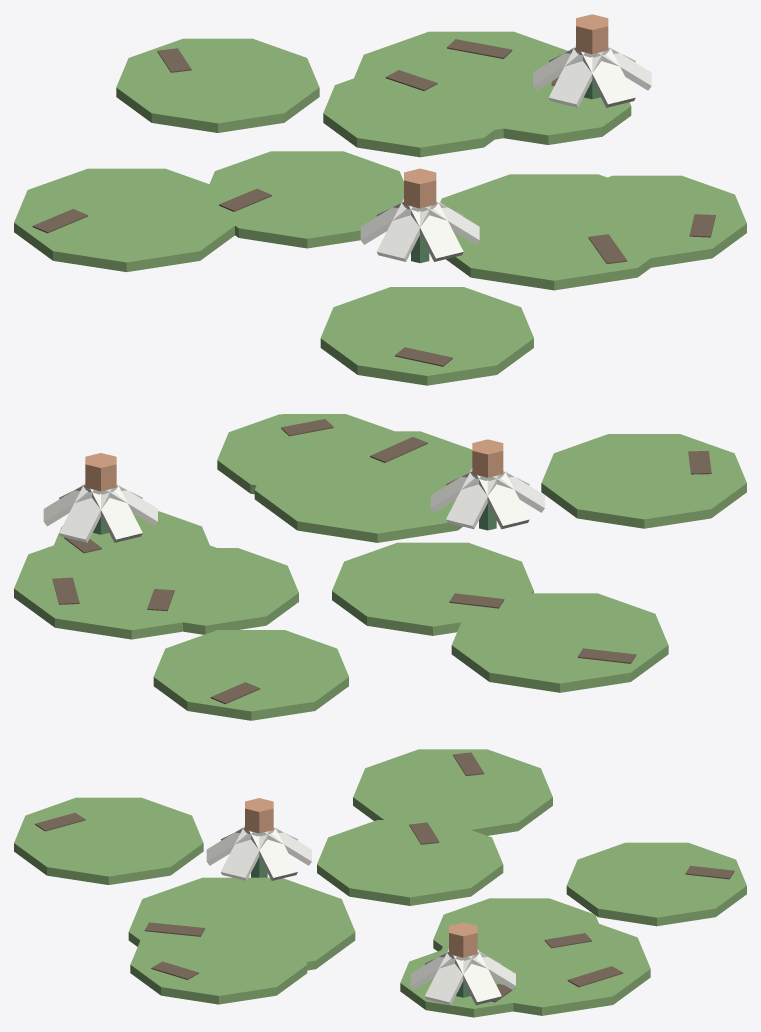
Rendered from botanical-glasshouse-and-palm-house-botanical-glasshou-3b27840e__38559.glb.
The picture shows the model from 3 angles, top to bottom: view 1: azimuth 30°, elevation 25°; view 2: azimuth 150°, elevation 25°; view 3: azimuth 270°, elevation 25°; orthographic projection. The views are drawn at different scales.
Visible parts, largest first — view 1: botanical-glasshouse-and-palm-house-lily-pad-cluster; view 2: botanical-glasshouse-and-palm-house-lily-pad-cluster; view 3: botanical-glasshouse-and-palm-house-lily-pad-cluster.
Boxes of the visible parts, x1,y1,x2,y2 form: botanical-glasshouse-and-palm-house-lily-pad-cluster: (14, 14, 746, 385); botanical-glasshouse-and-palm-house-lily-pad-cluster: (14, 414, 746, 720); botanical-glasshouse-and-palm-house-lily-pad-cluster: (14, 749, 746, 1017).
Bounding box in the file's own units: 1.33 × 0.1725 × 1.55.
